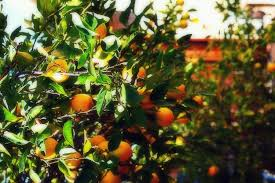orange: (43, 56, 70, 82), (71, 93, 95, 116), (108, 140, 132, 160), (154, 104, 174, 127)
